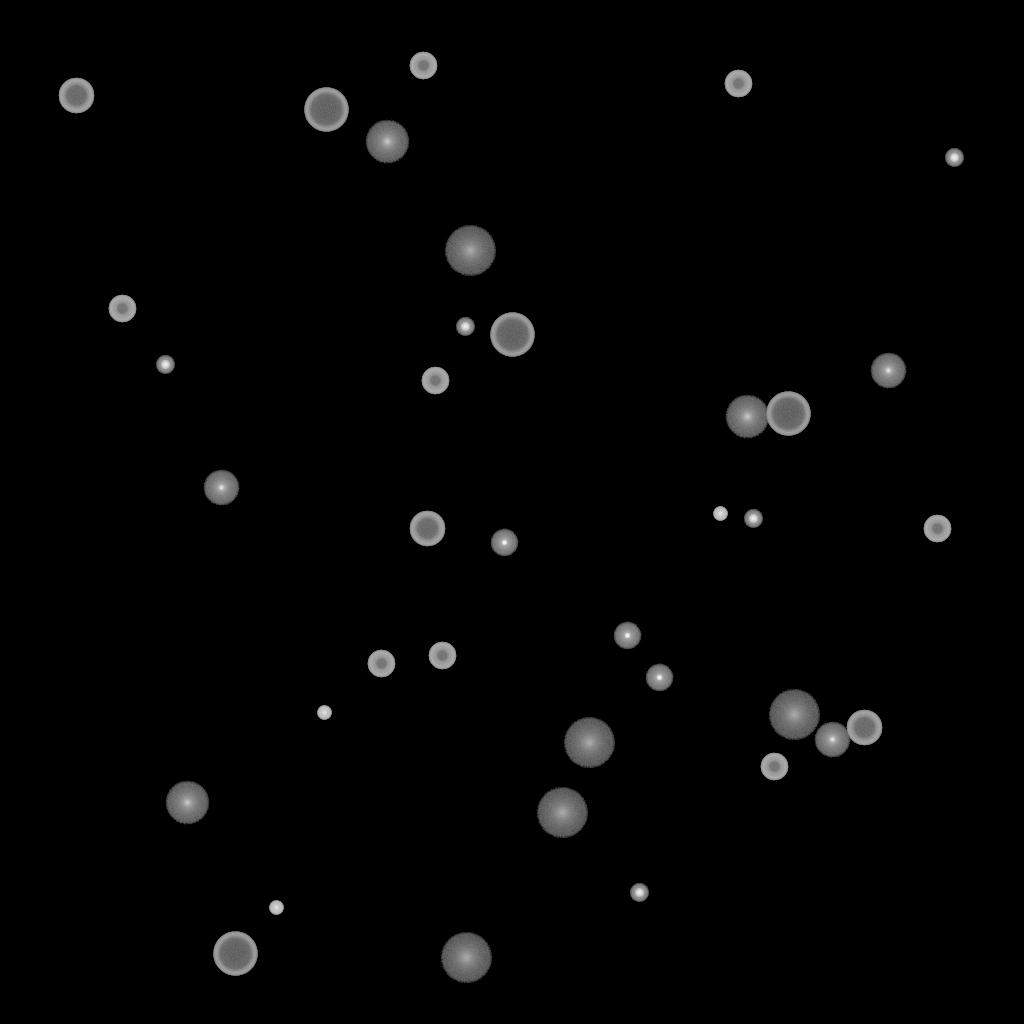depth:-10: (613, 622, 641, 650), (645, 664, 673, 692), (490, 529, 518, 557)
depth:-20: (744, 510, 762, 528), (630, 884, 648, 902), (456, 318, 474, 336), (156, 356, 174, 374), (945, 149, 963, 167)
depth:-30: (317, 706, 331, 720), (713, 507, 727, 521), (269, 901, 283, 915)
depth:-50: (409, 52, 437, 80), (367, 650, 395, 678), (421, 367, 449, 395), (428, 642, 456, 670), (108, 295, 136, 323), (760, 753, 788, 781), (923, 515, 951, 543), (724, 70, 752, 98)
depth:-60: (58, 78, 94, 114), (409, 511, 445, 547), (846, 710, 882, 746)
depth:-70: (766, 392, 810, 436), (213, 932, 257, 976), (304, 88, 348, 132), (490, 313, 534, 357)
depth:0: (814, 722, 850, 758), (870, 353, 906, 389), (203, 470, 239, 506)
depth:10: (365, 120, 409, 164), (165, 781, 209, 825), (725, 395, 769, 439)
depth:20: (768, 690, 820, 740), (440, 933, 492, 983), (563, 718, 615, 768), (536, 788, 588, 838), (444, 226, 496, 276)
